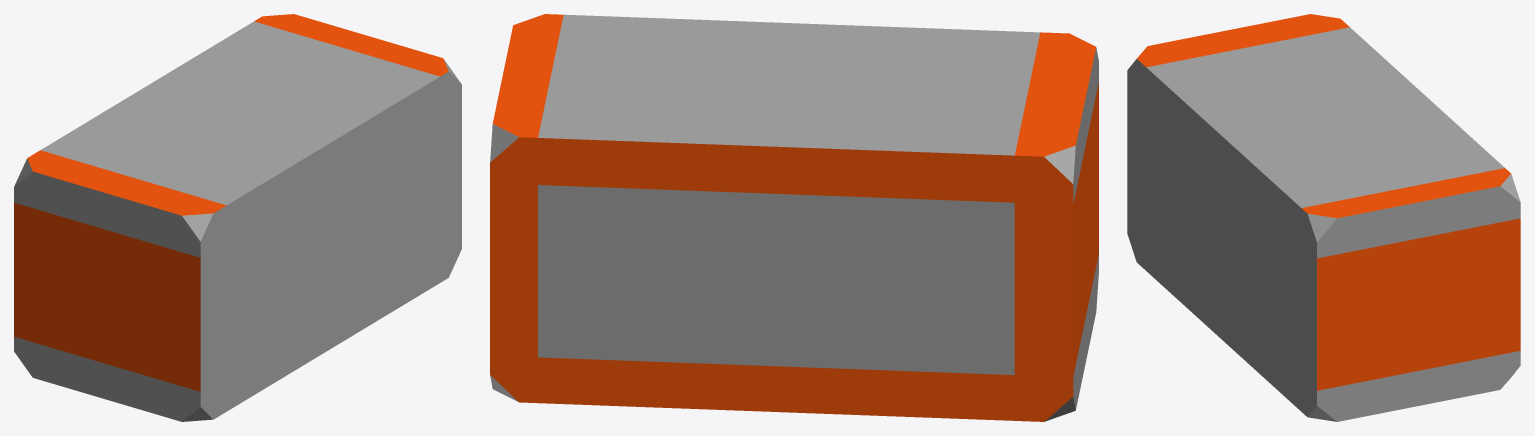
The model's file is Anethesia Cart - Box.FBX.
3 views of the same model, side by side, from view 1: azimuth 30°, elevation 25°; view 2: azimuth 150°, elevation 25°; view 3: azimuth 270°, elevation 25° (orthographic). The views are drawn at different scales.
Parts seen in each view (by area): view 1: Box003; view 2: Box003; view 3: Box003.
Boxes of the visible parts, x1,y1,x2,y2 form: Box003: (14, 14, 461, 421); Box003: (490, 14, 1098, 421); Box003: (1127, 14, 1520, 421).
Size of the model in its own units: 11.18 by 5 by 8.75.
